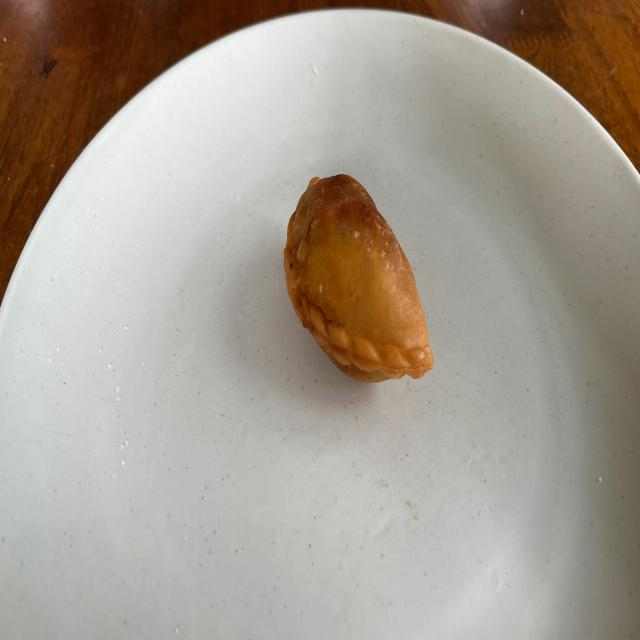karipap: (284, 173, 434, 382)
